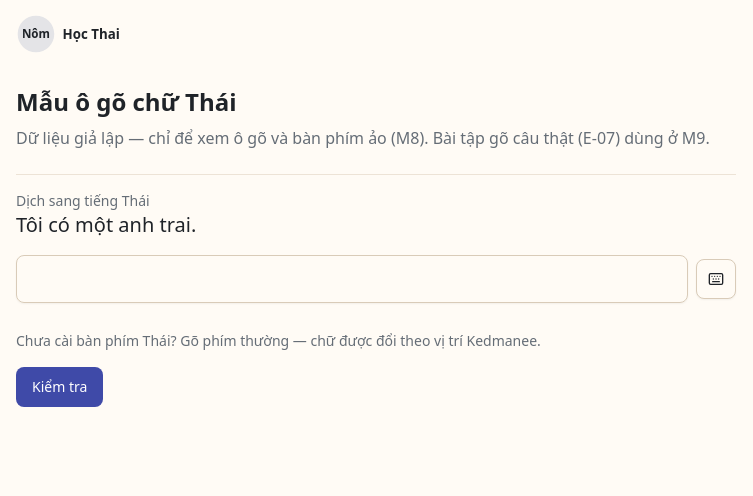
Test case: routes › /dev/typing: gõ câu mẫu rồi kiểm tra → hiện kết quả
The image size is (753, 496).
Step 1. Type "ผมมีพี่ชายหนึ่งคน" into the field with test id "thai-input" → (352, 279), box [16, 255, 688, 303]
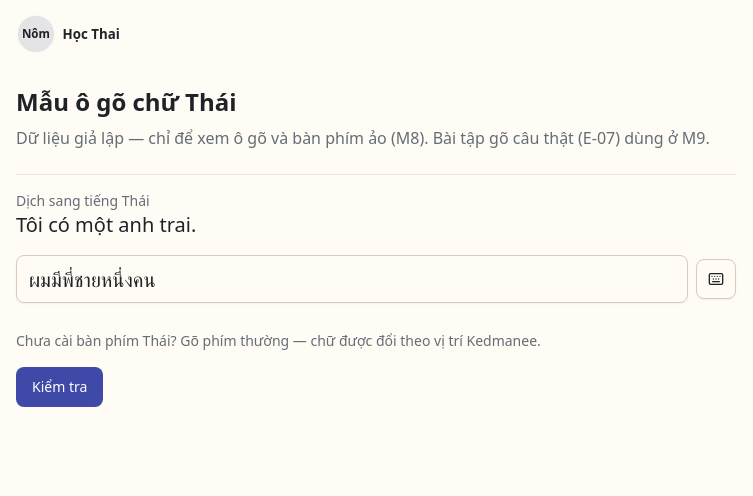
Step 2. Click the button with test id "typing-check" → (60, 387), box [16, 367, 103, 407]
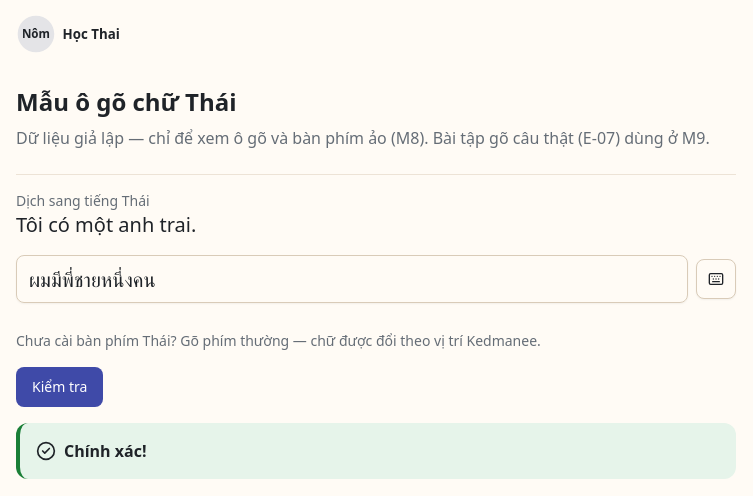
Step 3. Replace the text in the field with test id "thai-input" with "ผม" → (352, 279), box [16, 255, 688, 303]
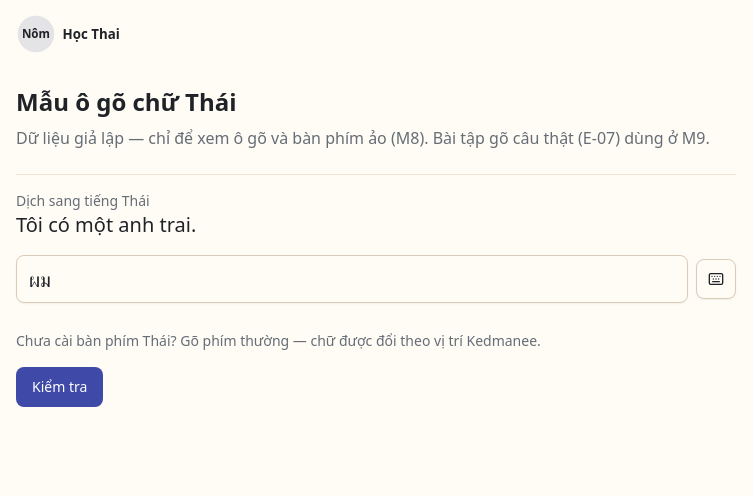
Expected: the message with test id "typing-feedback" is gone
